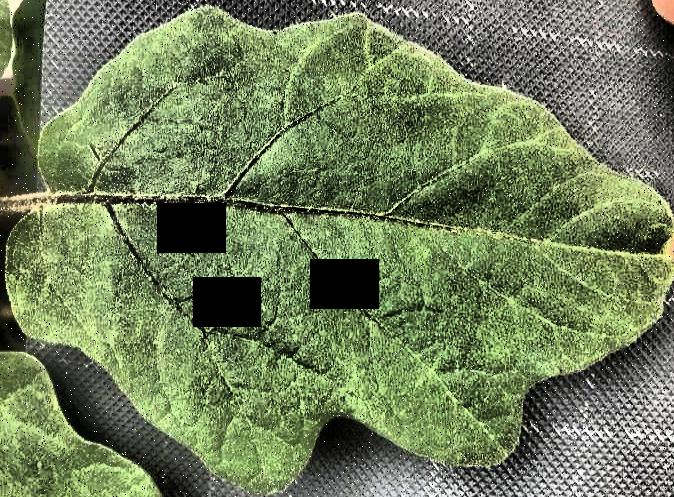HEALTHY: (1, 0, 674, 497)
